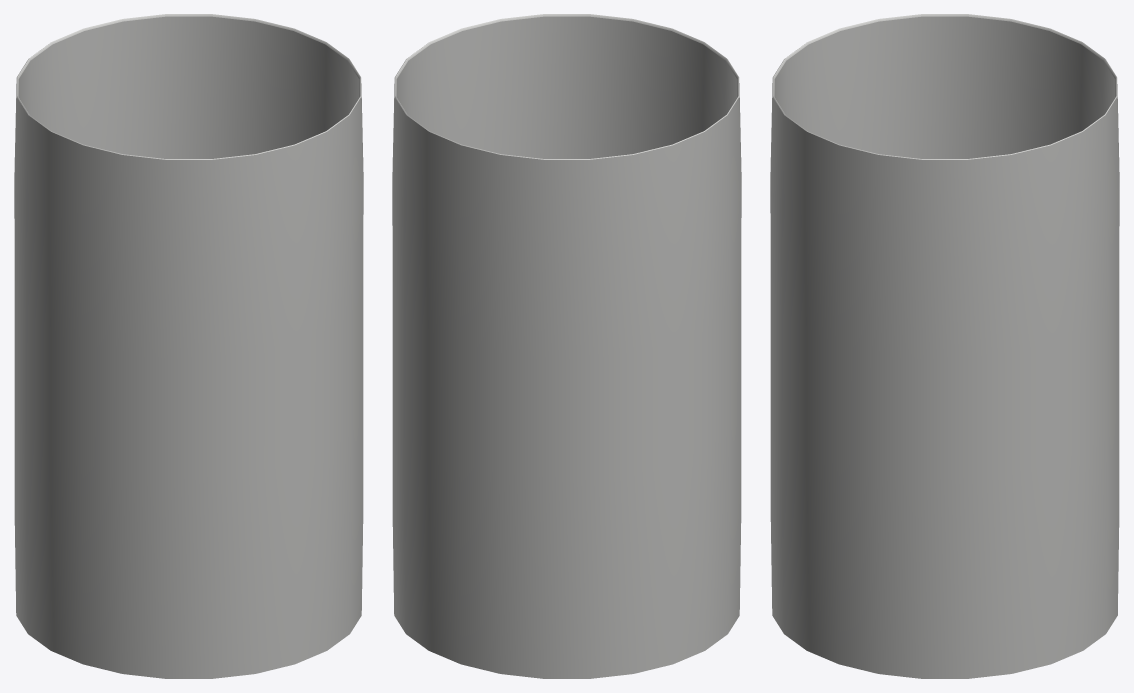
The model's file is SmallWhitePots005.FBX.
3 views of the same model, side by side, from view 1: azimuth 30°, elevation 25°; view 2: azimuth 150°, elevation 25°; view 3: azimuth 270°, elevation 25° (orthographic).
Parts seen in each view (by area): view 1: SmallWhitePots005; view 2: SmallWhitePots005; view 3: SmallWhitePots005.
Boxes of the visible parts, x1,y1,x2,y2 form: SmallWhitePots005: (14, 14, 363, 678); SmallWhitePots005: (392, 14, 741, 678); SmallWhitePots005: (770, 14, 1119, 678).
Size of the model in its own units: 0.5256 by 0.8659 by 0.5256.
Materials: 1 (1 with a texture image).
